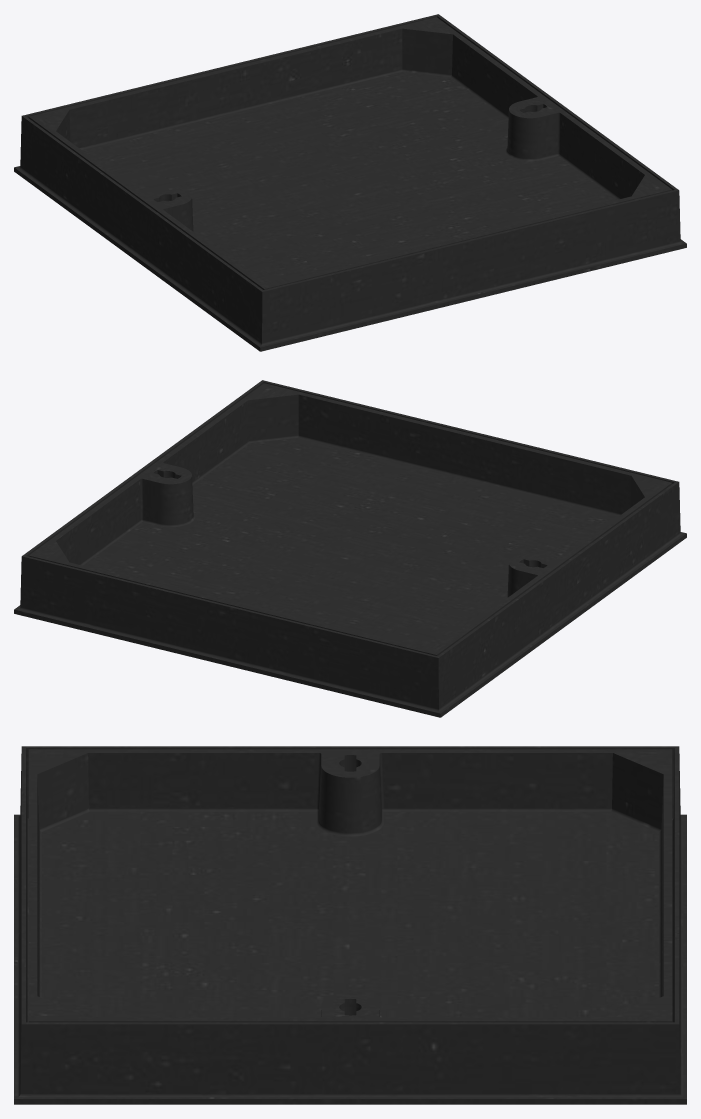
File: 600-x-600-ds-recess-cover-and-frame.glb
The picture shows the model from 3 angles, top to bottom: view 1: azimuth 30°, elevation 25°; view 2: azimuth 150°, elevation 25°; view 3: azimuth 270°, elevation 25°; orthographic projection. The views are drawn at different scales.
Parts seen in each view (by area): view 1: NAUO2_high; view 2: NAUO2_high; view 3: NAUO2_high.
Part boxes in pixels (x1=…): NAUO2_high: x1=14, y1=14, x2=686, y2=351; NAUO2_high: x1=14, y1=380, x2=686, y2=717; NAUO2_high: x1=14, y1=746, x2=686, y2=1104.
Size of the model in its own units: 0.75 by 0.171 by 0.75.
1 material, 1 textured.
